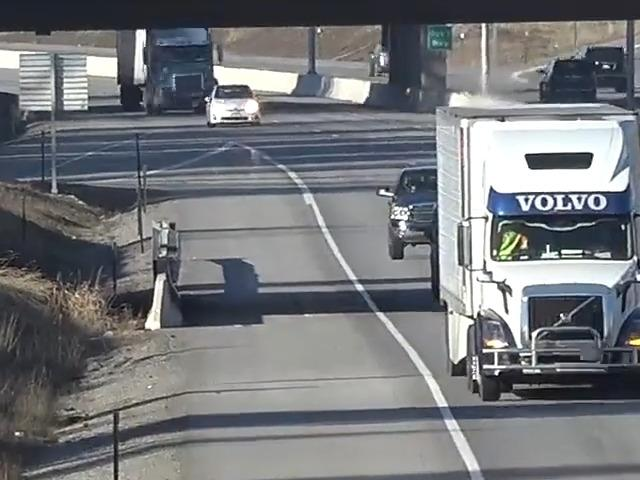car: (385, 165, 498, 261), (531, 56, 603, 104), (201, 84, 263, 127)
truck: (436, 90, 640, 393), (142, 43, 219, 118)
